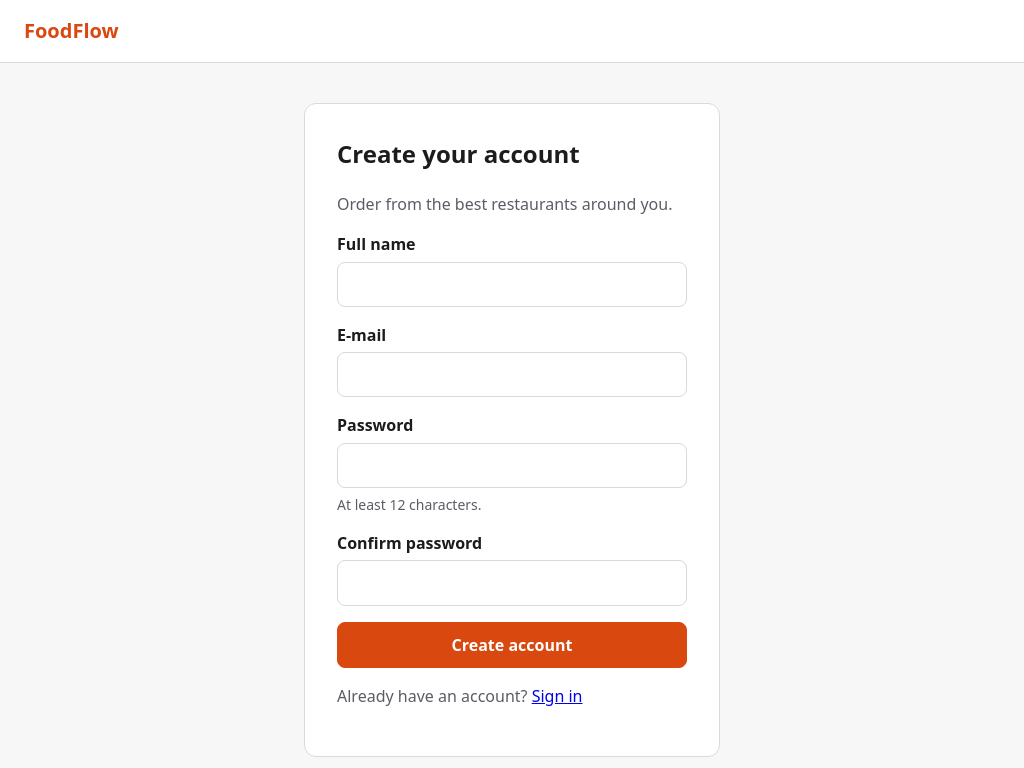
Test: registration › creates a customer account and signs in
In the field labelled "Full name": point(512, 284) x1=337 y1=262 x2=687 y2=307, type "Jane Doe"
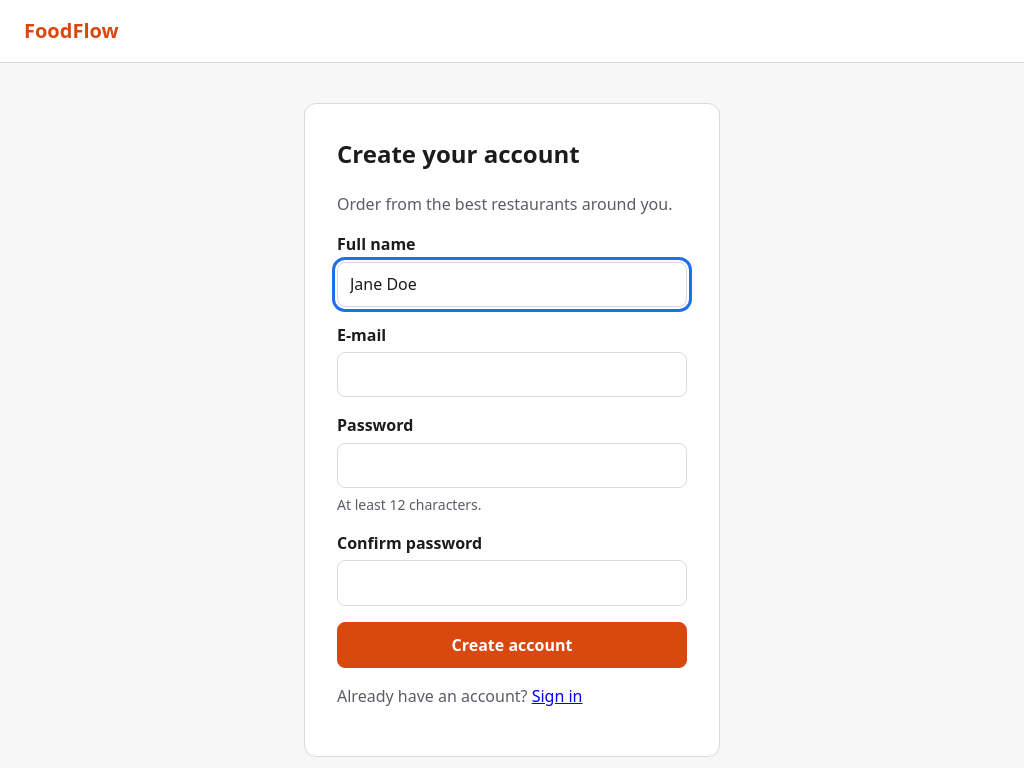
In the field labelled "E-mail": point(512, 375) x1=337 y1=352 x2=687 y2=398, type "jane@example.com"
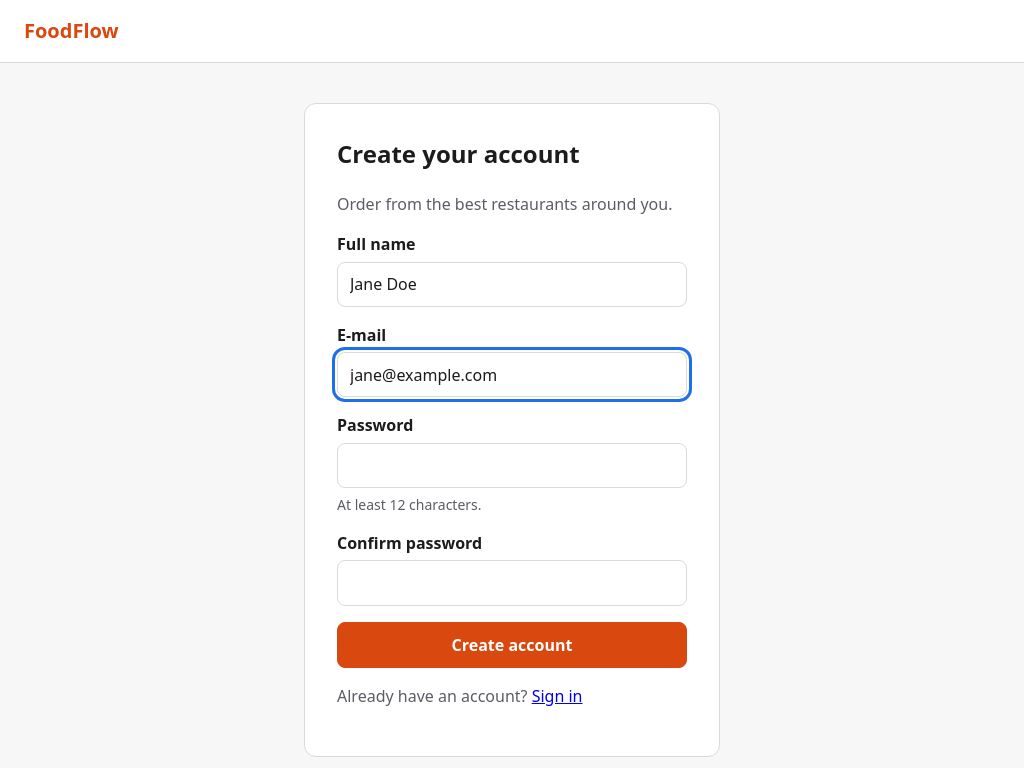
In the password field labelled "Password": point(512, 466) x1=337 y1=443 x2=687 y2=488, type "correct horse battery staple"
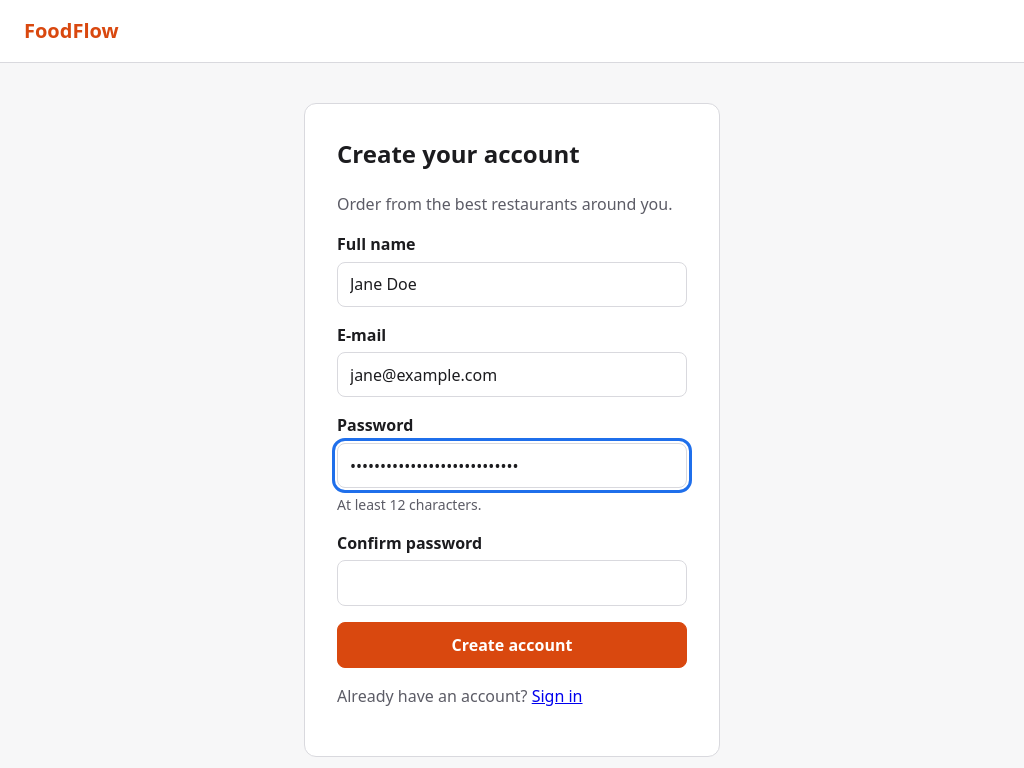
In the password field labelled "Confirm password": point(512, 583) x1=337 y1=560 x2=687 y2=606, type "correct horse battery staple"
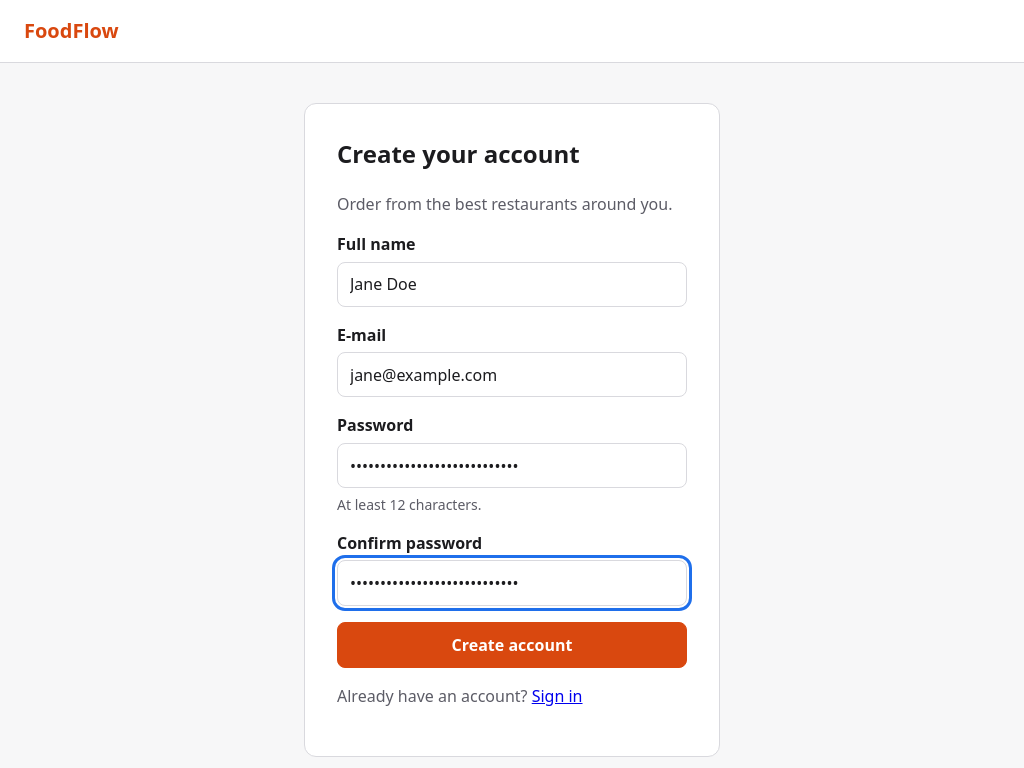
Click the button "Create account": point(512, 645) x1=337 y1=622 x2=687 y2=668
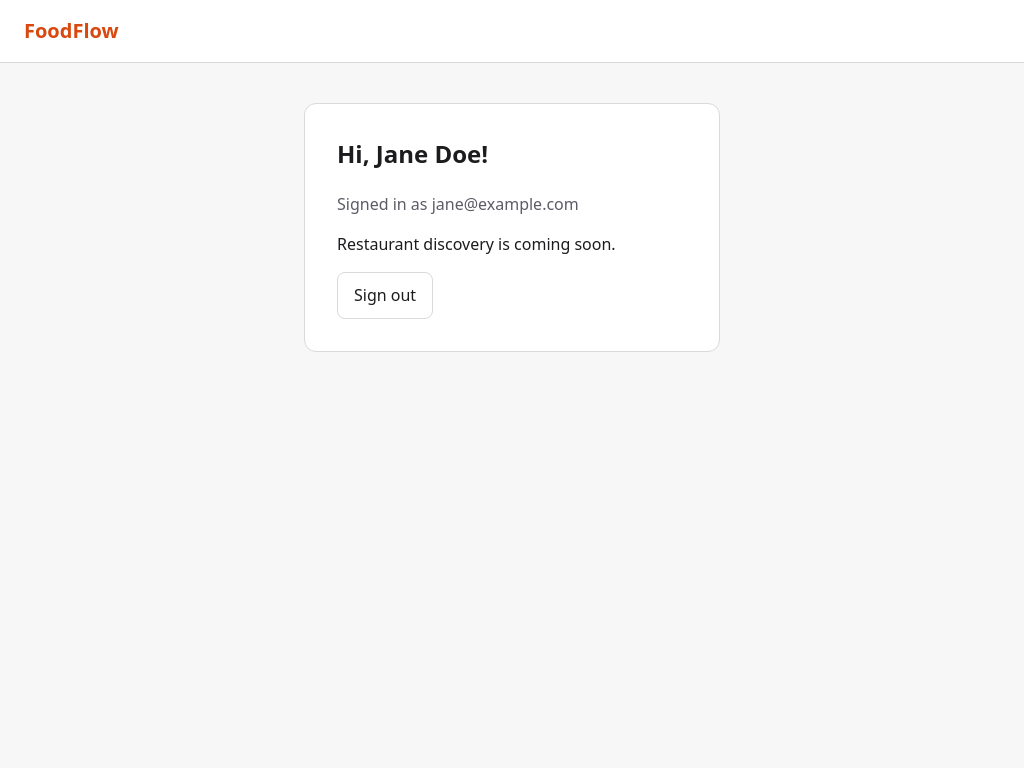
expect the heading "Hi, Jane Doe!" is shown: met, box x1=337 y1=137 x2=488 y2=170
